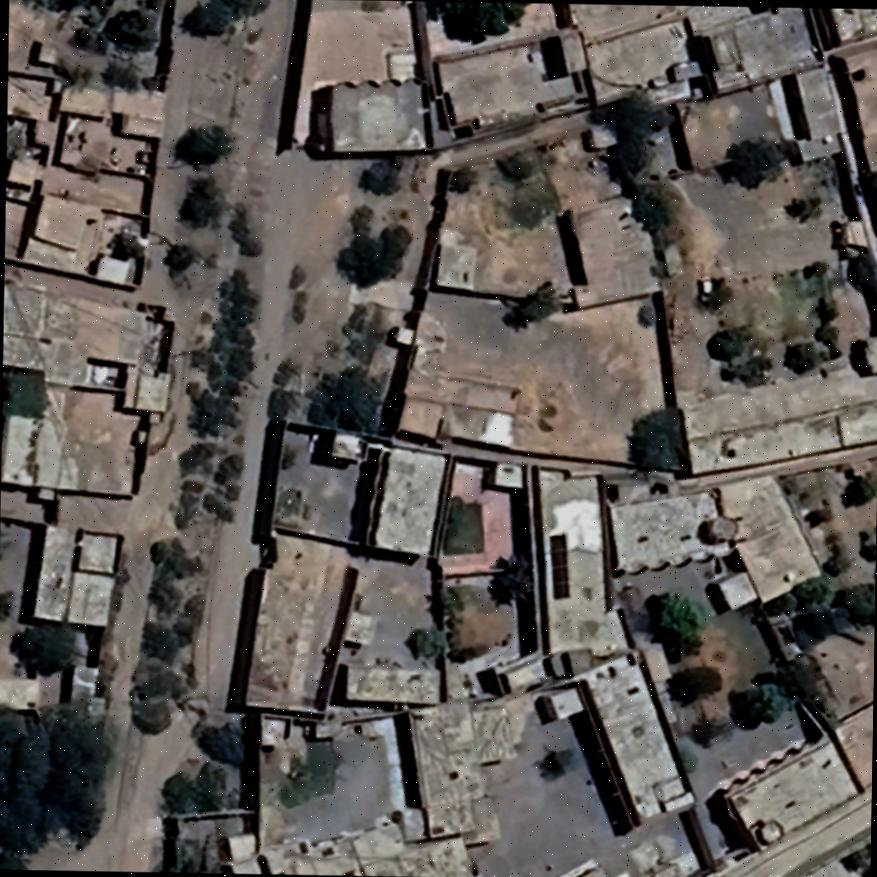Solarpanel: (546, 533, 569, 602)
